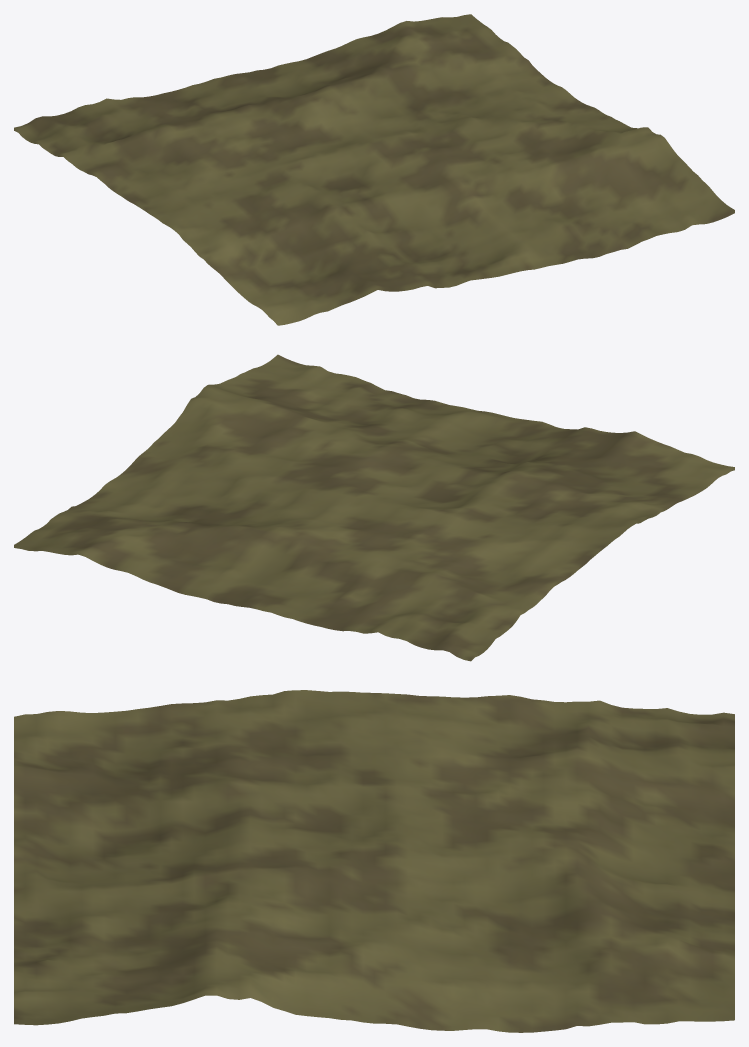
The model's file is land_f_00_07.glb.
3 views of the same model, one above another, from view 1: azimuth 30°, elevation 25°; view 2: azimuth 150°, elevation 25°; view 3: azimuth 270°, elevation 25° (orthographic). The views are drawn at different scales.
Parts seen in each view (by area): view 1: land_f_00_07; view 2: land_f_00_07; view 3: land_f_00_07.
Part boxes in pixels (x1,y1,x2,y2): land_f_00_07: [14, 14, 734, 325]; land_f_00_07: [14, 354, 734, 661]; land_f_00_07: [14, 690, 734, 1032].
Bounding box in the file's own units: 3840 × 280 × 3840.
